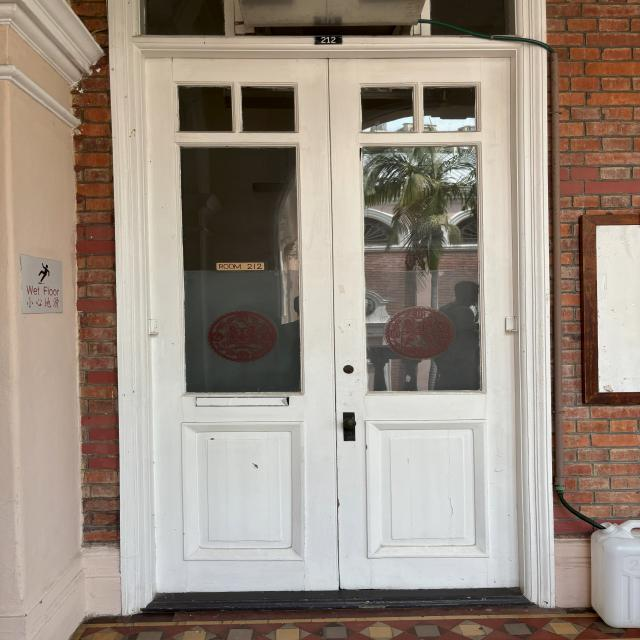MB212_cardboard: (213, 260, 268, 274)
MB212_roomNumber: (312, 34, 344, 46)
